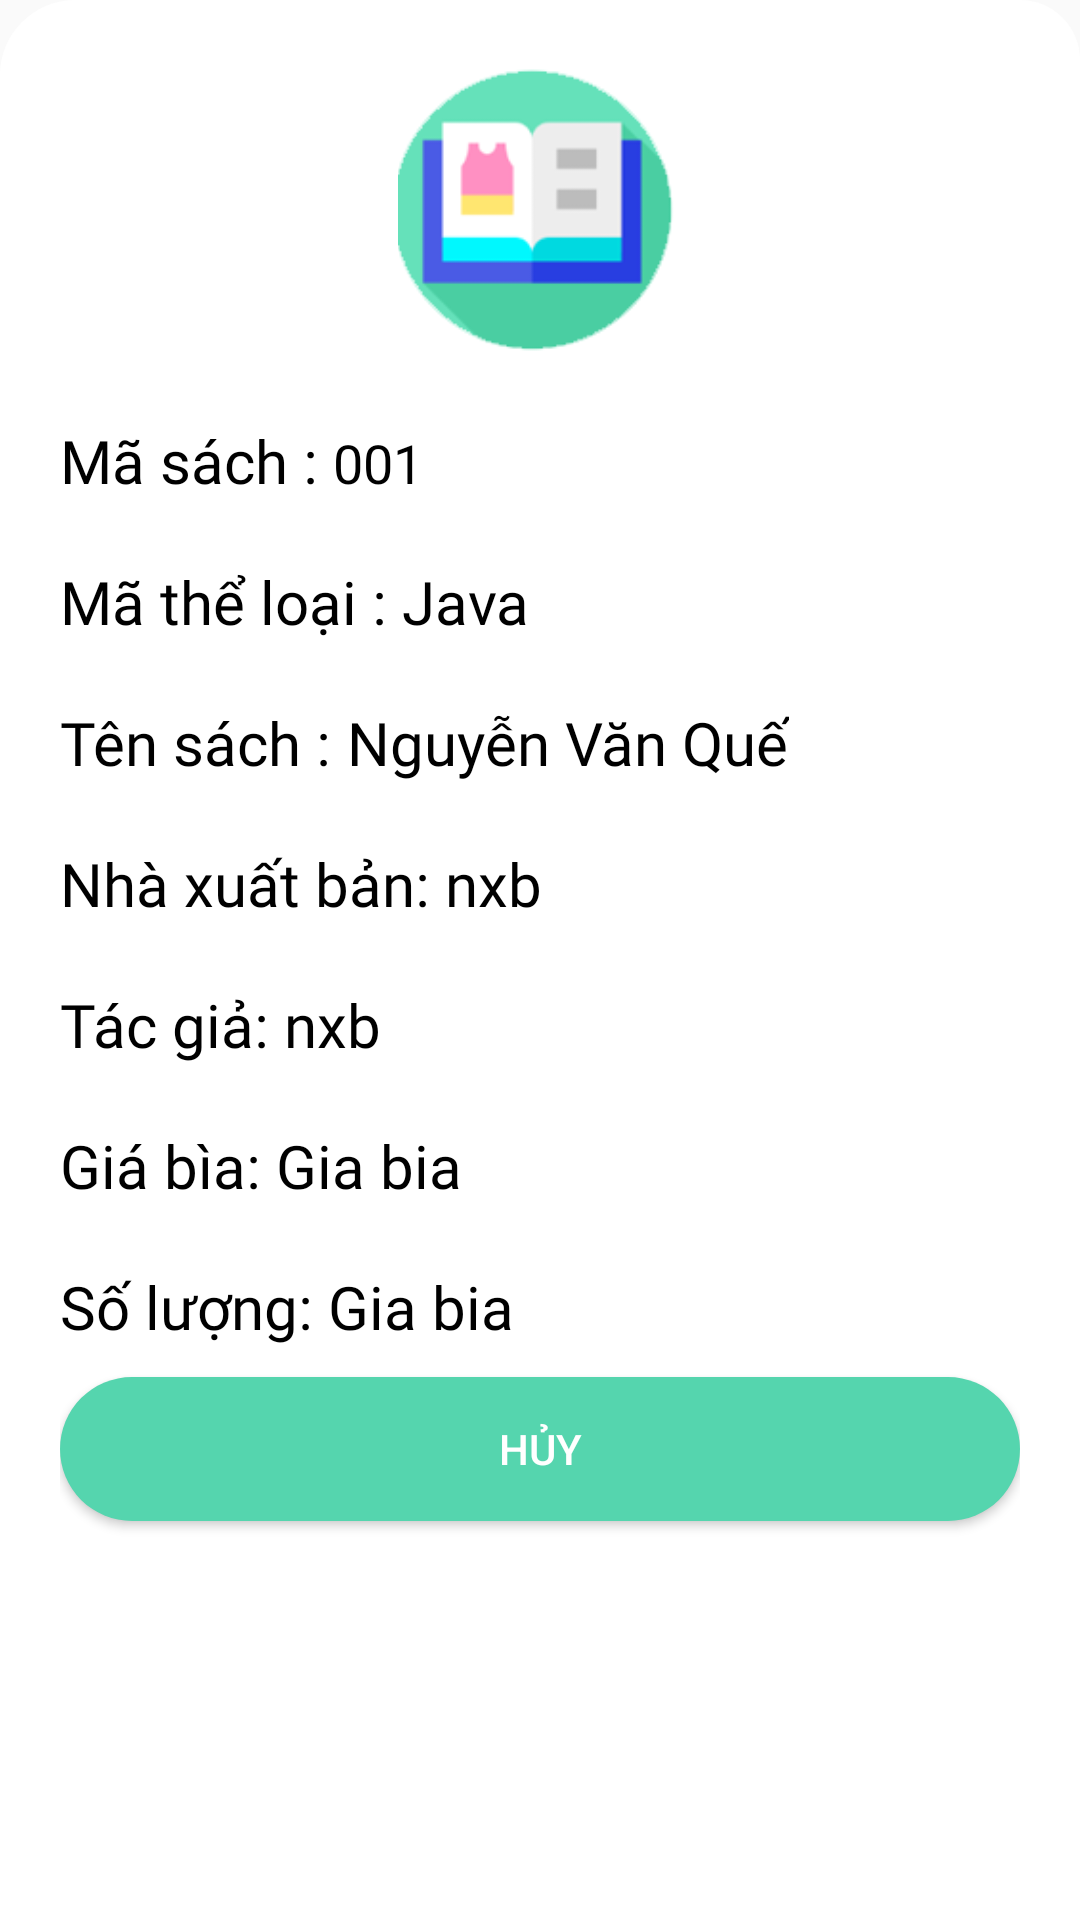

Named icons in this screenshot (1080px x 1920px) and their bounding boxes, BBox(x1, y1, x2, y2):
sach: BBox(398, 70, 672, 350)
